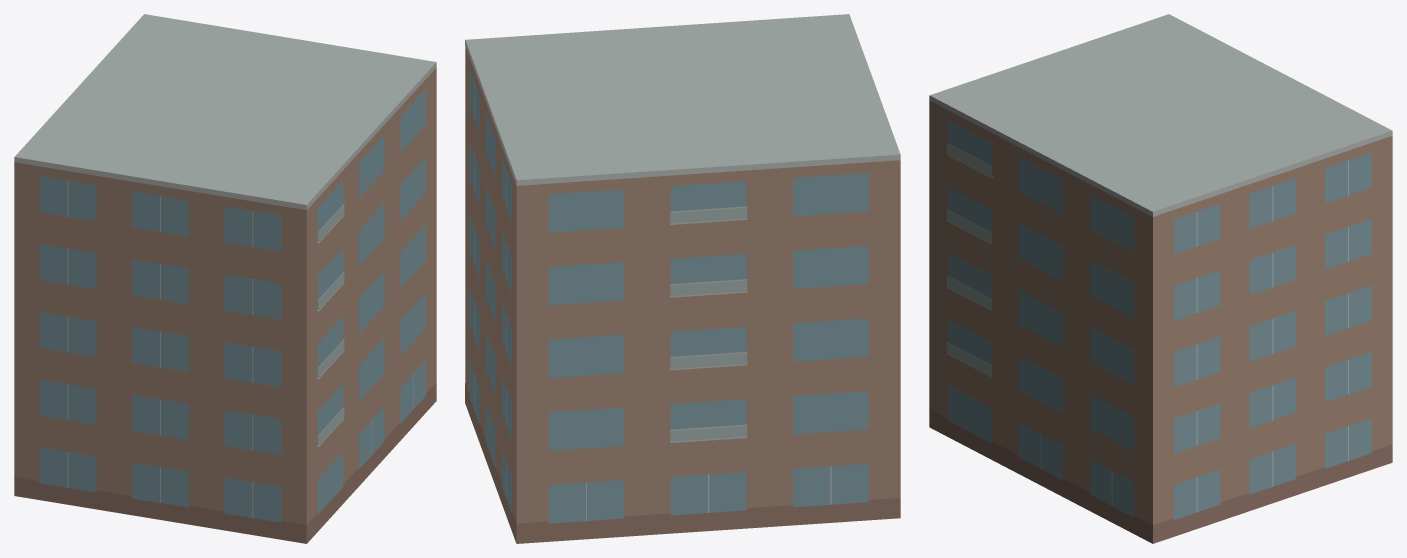
The model's file is survey-upis-32804019.glb.
3 renders of one model, left to right at view 1: azimuth 30°, elevation 25°; view 2: azimuth 150°, elevation 25°; view 3: azimuth 270°, elevation 25°, orthographic. The views are drawn at different scales.
Visible parts, largest first — view 1: survey-upis-32804019.tmp; view 2: survey-upis-32804019.tmp; view 3: survey-upis-32804019.tmp.
Part boxes in pixels (x1,y1,x2,y2): survey-upis-32804019.tmp: [14, 14, 436, 543]; survey-upis-32804019.tmp: [465, 14, 900, 543]; survey-upis-32804019.tmp: [929, 14, 1392, 543].
Bounding box in the file's own units: 20.34 × 15.9 × 20.11.
